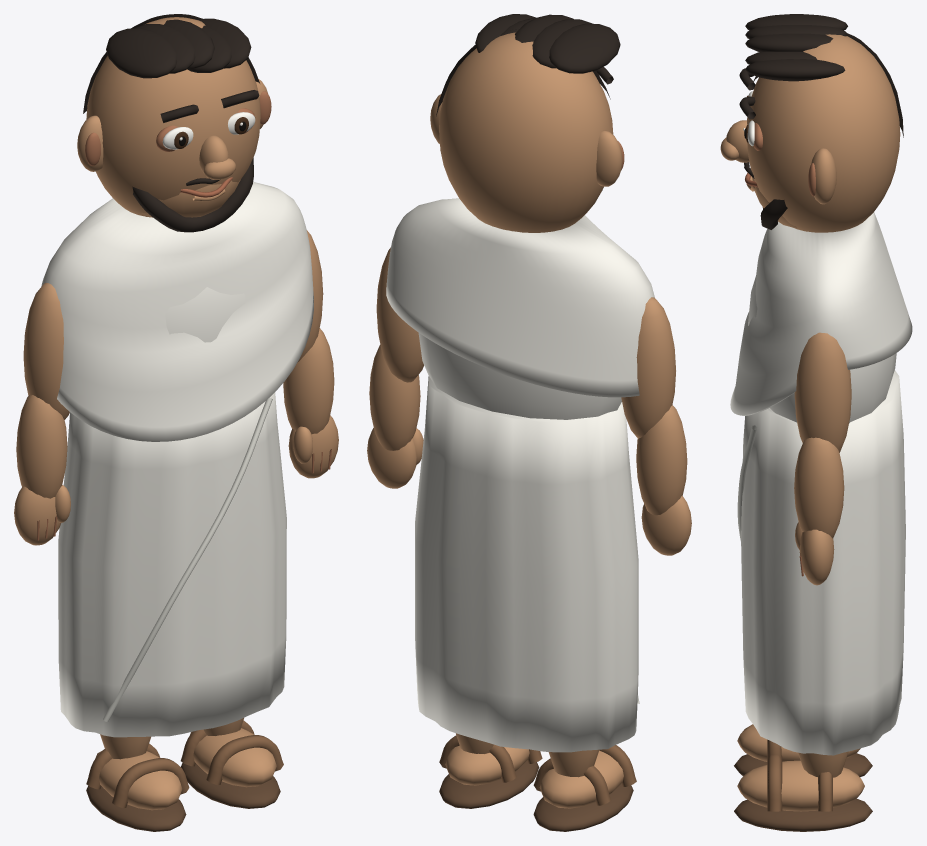
The model's file is jemaah-v1.glb.
3 renders of one model, left to right at view 1: azimuth 30°, elevation 25°; view 2: azimuth 150°, elevation 25°; view 3: azimuth 270°, elevation 25°, orthographic.
Parts seen in each view (by area): view 1: PilgrimAvatar_Ihram, UpperBody_Ihram, HeadPivot_Skin, ArmR_Skin, Hair_Hair, ArmL_Skin, LegR_Skin, HeadPivot_Hair, LegL_Skin, PilgrimAvatar_ClothSeam, LegR_Sandal, LegL_Sandal (+4 smaller); view 2: PilgrimAvatar_Ihram, UpperBody_Ihram, HeadPivot_Skin, ArmR_Skin, ArmL_Skin, Hair_Hair, LegR_Skin, LegL_Skin, LegR_Sandal, LegL_Sandal, LegR_SandalStrap, LegL_SandalStrap; view 3: PilgrimAvatar_Ihram, UpperBody_Ihram, HeadPivot_Skin, ArmL_Skin, Hair_Hair, LegL_Skin, LegL_Sandal, LegL_SandalStrap, HeadPivot_Hair, LegR_Skin, LegR_Sandal, PilgrimAvatar_ClothSeam (+1 smaller).
Part boxes in pixels (<box>): PilgrimAvatar_Ihram: <box>58,392,286,737</box>; UpperBody_Ihram: <box>41,182,313,441</box>; HeadPivot_Skin: <box>77,17,267,217</box>; ArmR_Skin: <box>14,282,70,545</box>; Hair_Hair: <box>83,14,259,113</box>; ArmL_Skin: <box>283,230,338,478</box>; LegR_Skin: <box>95,734,182,810</box>; HeadPivot_Hair: <box>132,90,259,232</box>; LegL_Skin: <box>190,718,276,787</box>; PilgrimAvatar_ClothSeam: <box>103,398,272,722</box>; LegR_Sandal: <box>86,786,186,831</box>; LegL_Sandal: <box>181,763,280,808</box>; PilgrimAvatar_Ihram: <box>415,376,638,752</box>; UpperBody_Ihram: <box>386,198,654,419</box>; HeadPivot_Skin: <box>430,32,622,232</box>; ArmR_Skin: <box>621,297,691,555</box>; ArmL_Skin: <box>367,247,423,488</box>; Hair_Hair: <box>436,14,620,116</box>; LegR_Skin: <box>539,749,624,808</box>; LegL_Skin: <box>445,733,529,785</box>; LegR_Sandal: <box>533,783,633,831</box>; LegL_Sandal: <box>439,760,539,808</box>; LegR_SandalStrap: <box>533,745,636,805</box>; LegL_SandalStrap: <box>439,735,542,782</box>; PilgrimAvatar_Ihram: <box>741,370,905,755</box>; UpperBody_Ihram: <box>730,212,912,423</box>; HeadPivot_Skin: <box>720,34,900,232</box>; ArmL_Skin: <box>794,332,851,585</box>; Hair_Hair: <box>745,14,903,137</box>; LegL_Skin: <box>737,751,864,811</box>; LegL_Sandal: <box>734,798,872,831</box>; LegL_SandalStrap: <box>767,754,832,811</box>; HeadPivot_Hair: <box>739,68,787,229</box>; LegR_Skin: <box>737,724,860,761</box>; LegR_Sandal: <box>734,753,872,777</box>; PilgrimAvatar_ClothSeam: <box>737,425,757,540</box>.
Bounding box in the file's own units: 0.832 × 1.92 × 0.4356.
